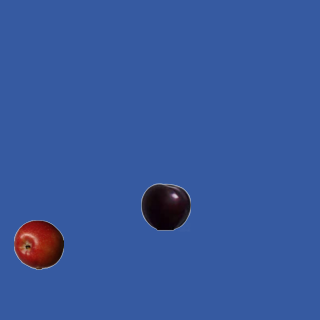Apple Braeburn: (13, 219, 63, 269)
Cherry Wax Black: (140, 181, 190, 231)
